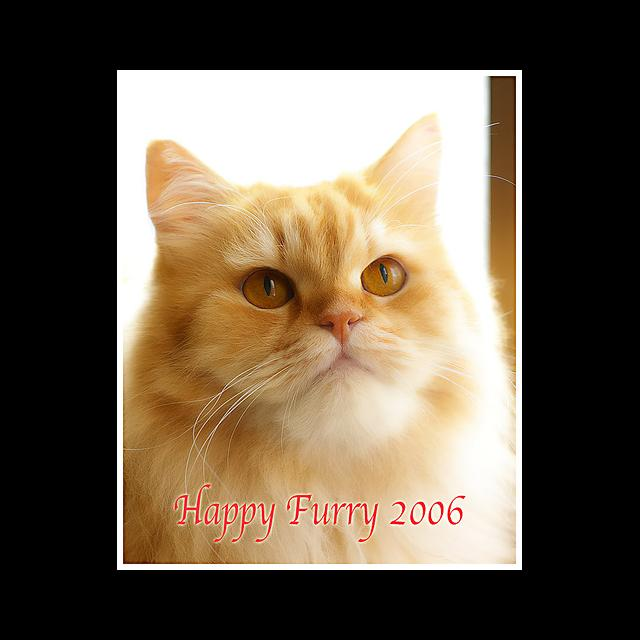animals: (156, 116, 432, 341)
